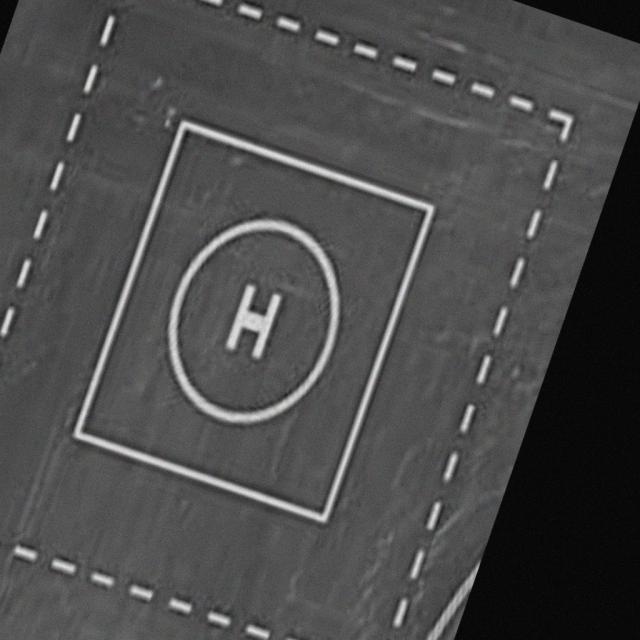helipad: (164, 212, 344, 426)
